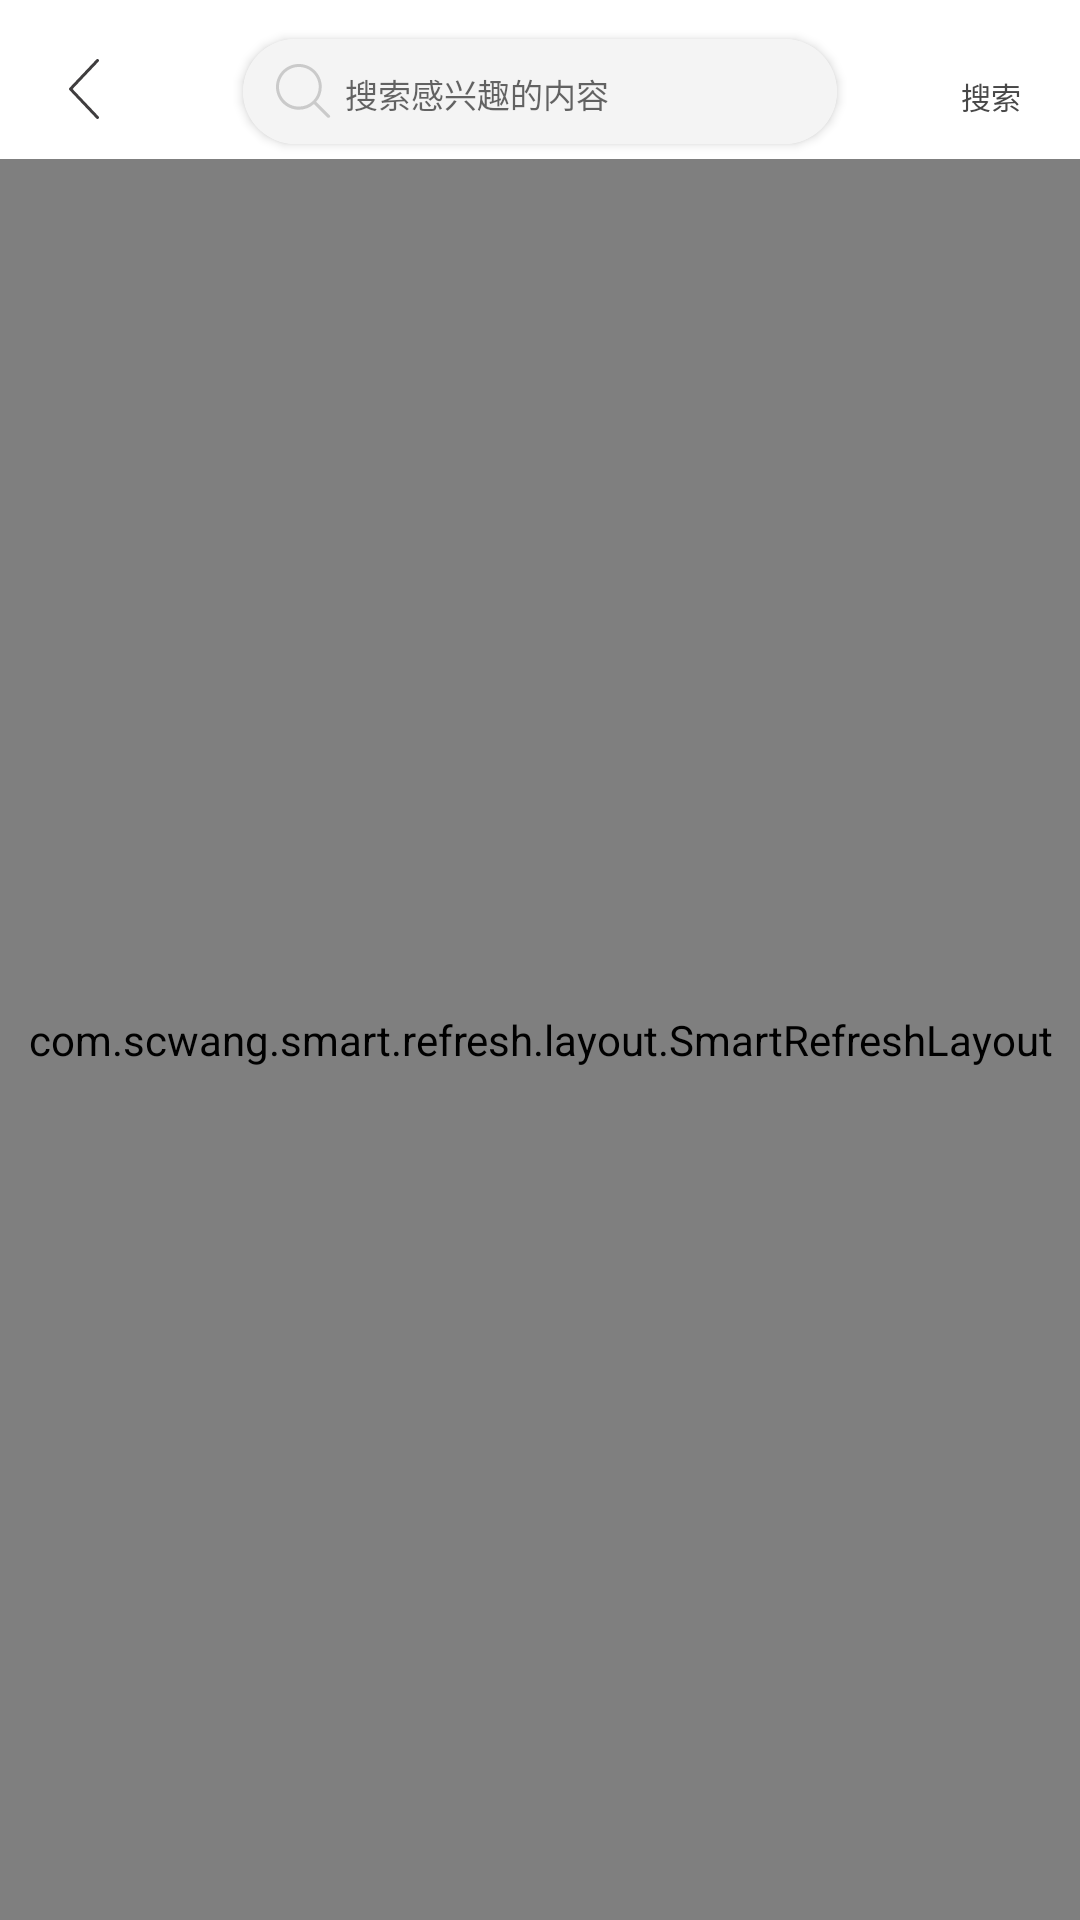

Screen size 1080×1920. Icon name, then its center in pixels as [x,y]:
back: [84,89]
